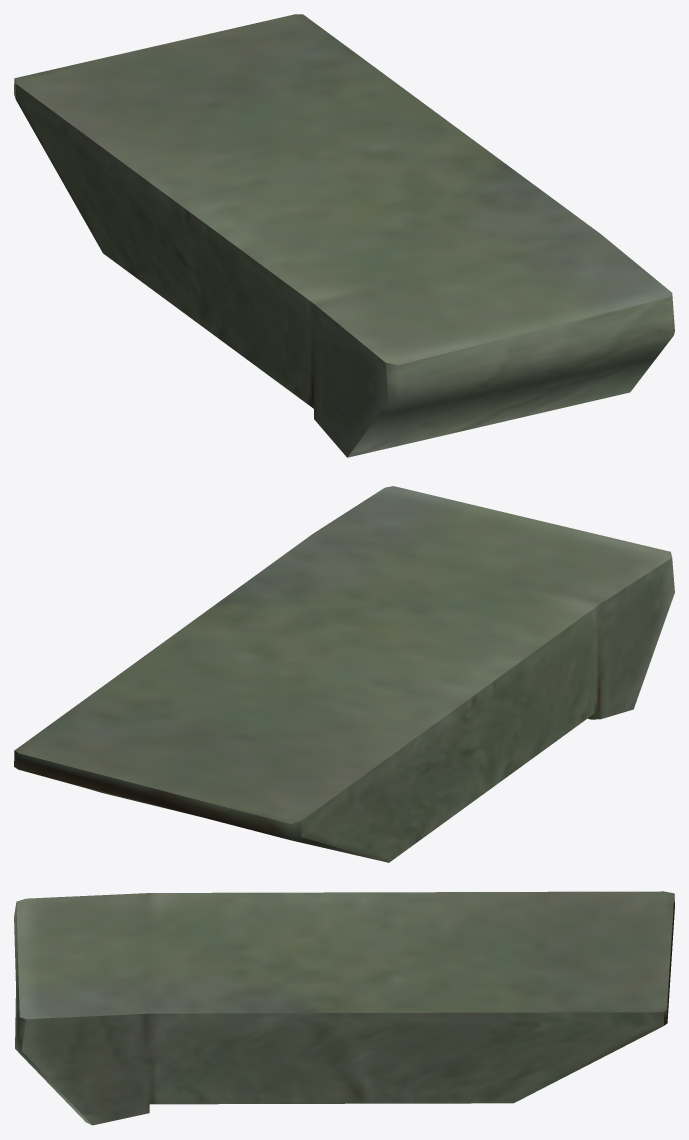
The model's file is Ruins_Trim_Top_Deco_2M_A.fbx.
The picture shows the model from 3 angles, top to bottom: view 1: azimuth 30°, elevation 25°; view 2: azimuth 150°, elevation 25°; view 3: azimuth 270°, elevation 25°; orthographic projection. The views are drawn at different scales.
Visible parts, largest first — view 1: Ruins_Trim_Top_Deco_2M_A; view 2: Ruins_Trim_Top_Deco_2M_A; view 3: Ruins_Trim_Top_Deco_2M_A.
Boxes of the visible parts, x1,y1,x2,y2 form: Ruins_Trim_Top_Deco_2M_A: (14,14,674,457); Ruins_Trim_Top_Deco_2M_A: (14,486,674,862); Ruins_Trim_Top_Deco_2M_A: (14,891,674,1125).
Bounding box in the file's own units: 100 × 43.87 × 232.
